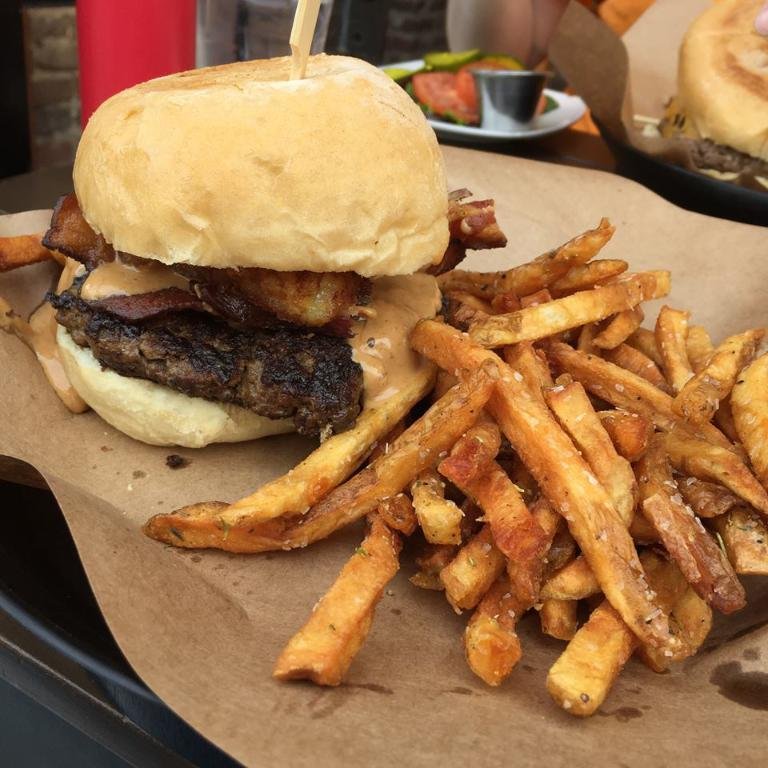French fries: (168, 197, 768, 697)
